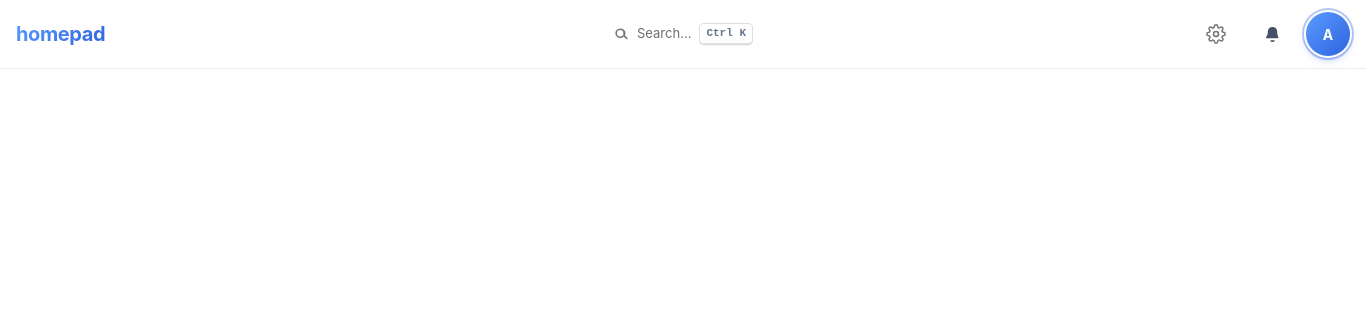
gear menu — "Arrange apps" (AC-007..AC-011) › AC-007 — the item reads "Arrange apps", and nothing says "Edit dashboard"
What coordinates should you click on to do the following:
click the button with test id "settings-gear"
I would click on:
 (1216, 34)
Its box is left=1194, top=12, right=1238, bottom=56.
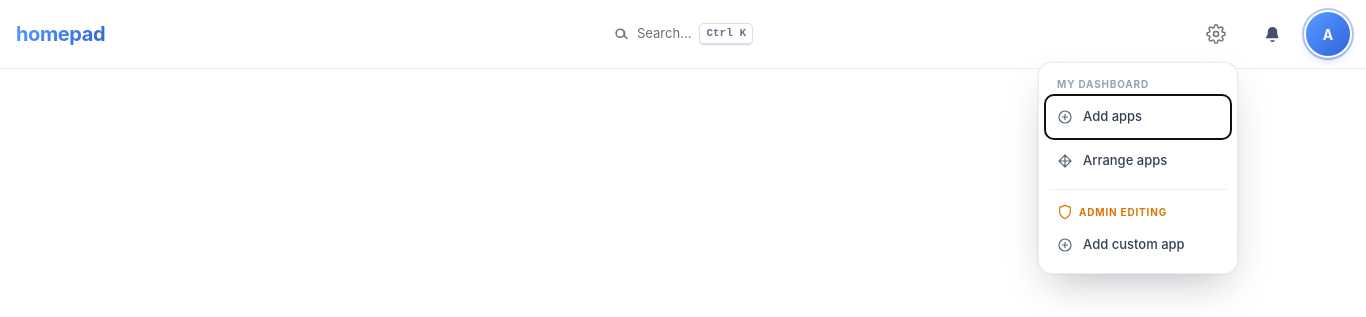
Expected: the menu item with test id "gear-edit-dashboard" reads "Arrange apps", left=1045, top=139, right=1231, bottom=183
